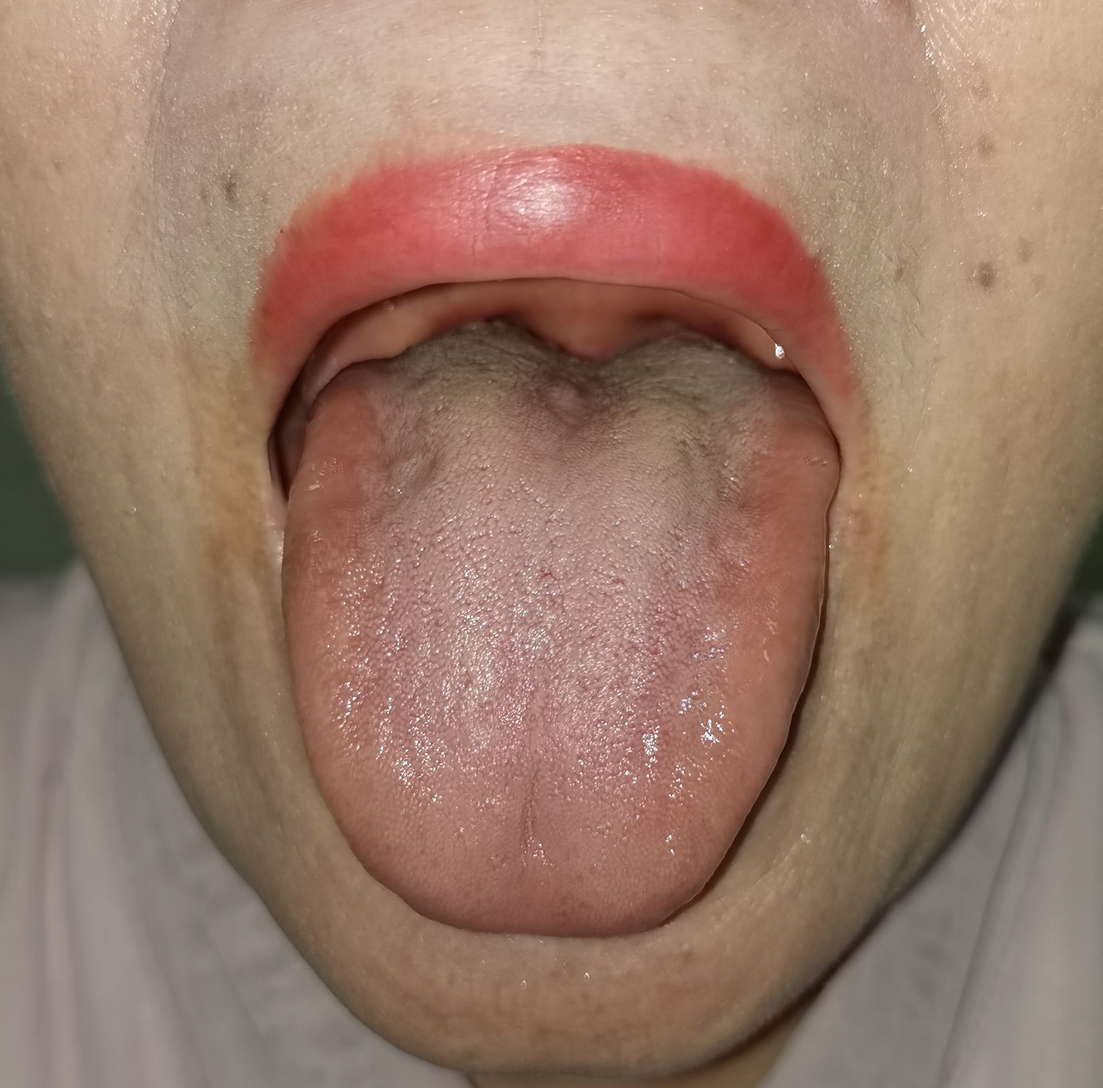baitaishe: (284, 324, 842, 938)
gandanao: (283, 327, 437, 648)
shenquao: (468, 326, 700, 392)
